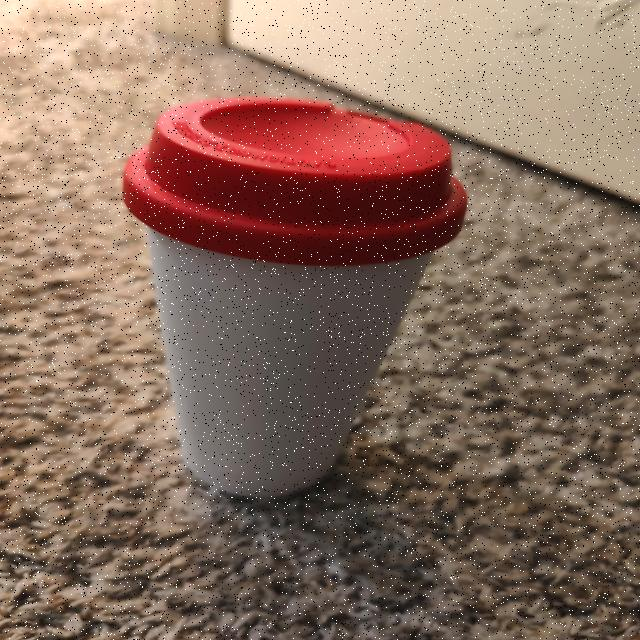mug: (176, 138, 454, 492)
